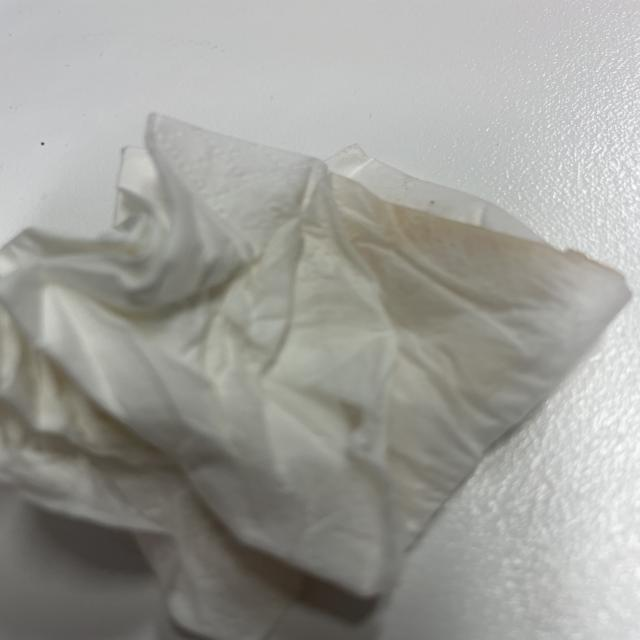kitchen paper: (0, 101, 635, 640)
